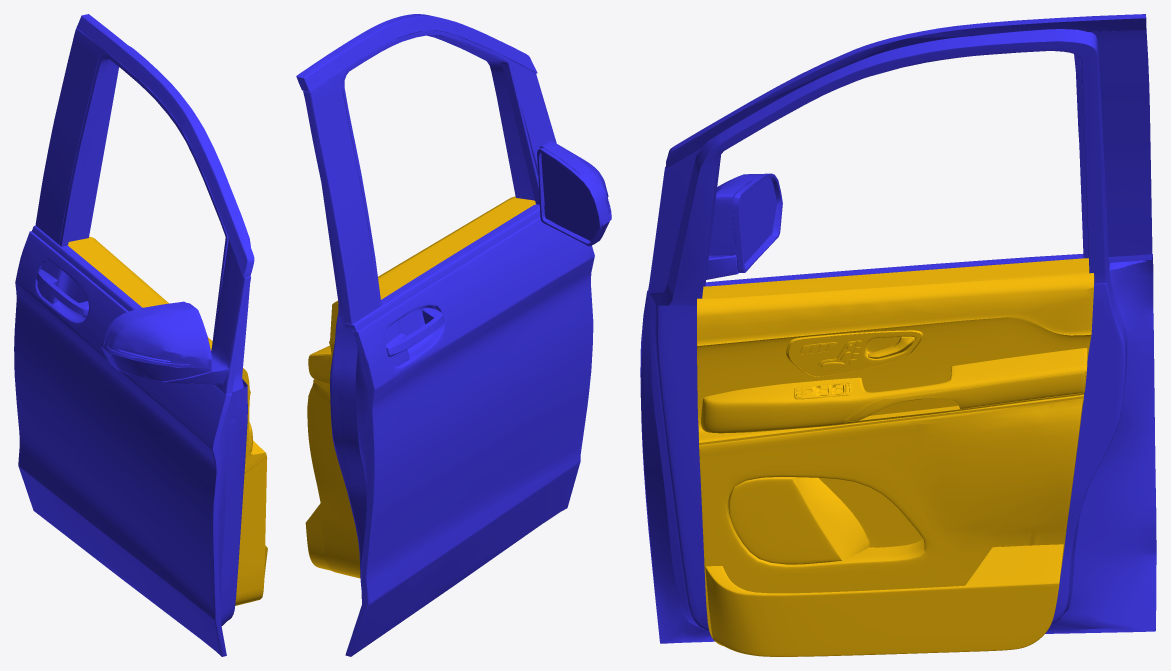
The model's file is door_front_right.fbx.
3 views of the same model, side by side, from view 1: azimuth 30°, elevation 25°; view 2: azimuth 150°, elevation 25°; view 3: azimuth 270°, elevation 25° (orthographic). The views are drawn at different scales.
Visible parts, largest first — view 1: CheMen_Q_R, CheMen_N_Q_R; view 2: CheMen_Q_R, CheMen_N_Q_R; view 3: CheMen_N_Q_R, CheMen_Q_R.
Boxes of the visible parts, <box> form: CheMen_Q_R: <box>14,14,254,656</box>; CheMen_N_Q_R: <box>68,236,267,605</box>; CheMen_Q_R: <box>296,14,611,656</box>; CheMen_N_Q_R: <box>305,196,535,578</box>; CheMen_N_Q_R: <box>697,258,1094,656</box>; CheMen_Q_R: <box>640,14,1156,643</box>.
Size of the model in its own units: 44.02 by 139 by 99.09.
